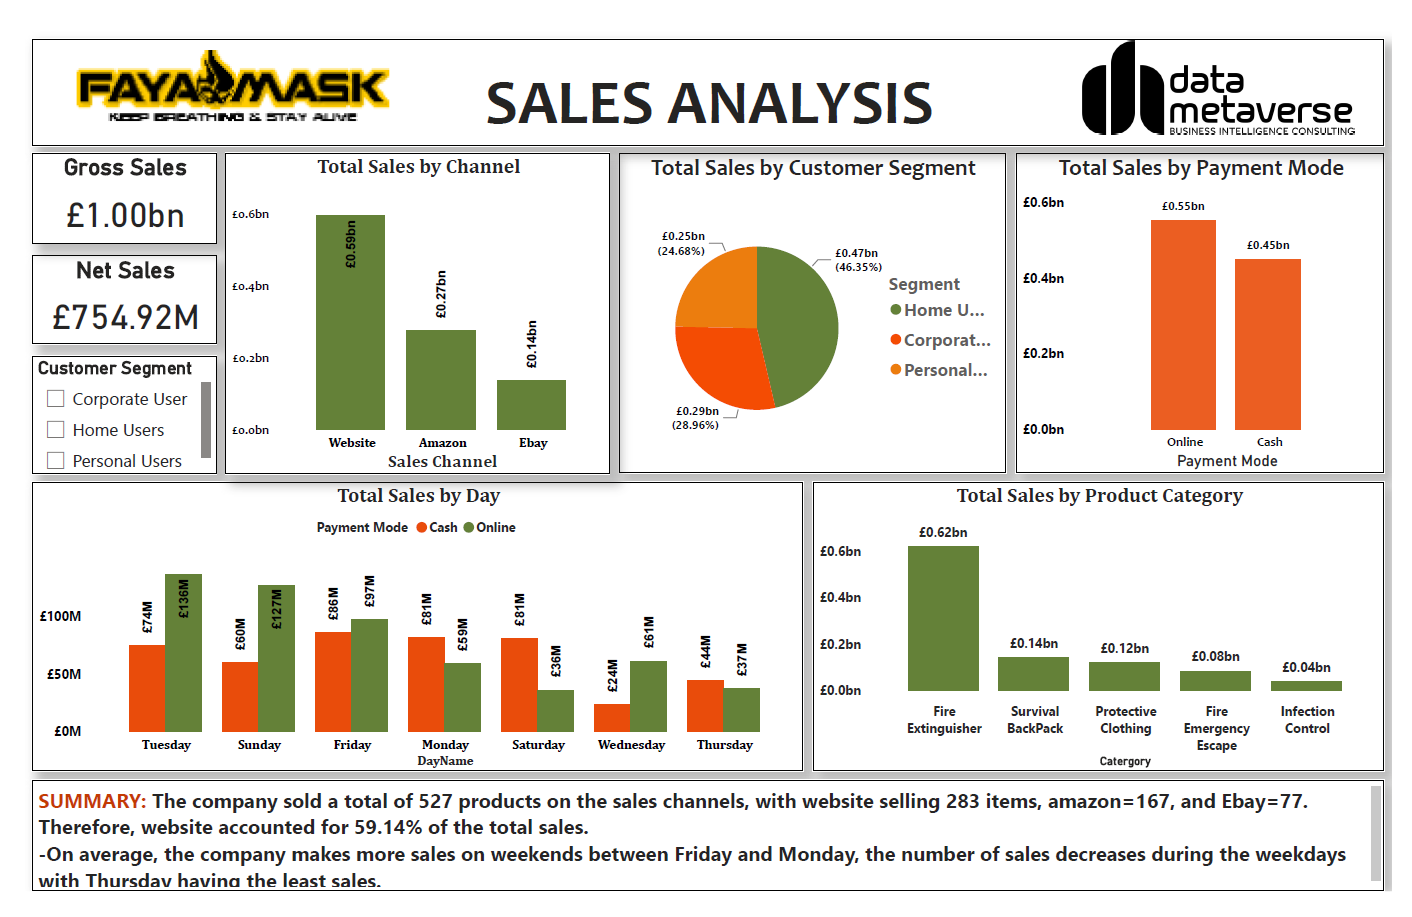

The page's visual inventory and layout, read from the dashboard file:
{"tool":"powerbi","page":{"name":"Sales Analysis","canvas":[1280,810],"ordinal":2},"visuals":[{"type":"pieChart","title":"Total Sales by Customer Segment","fields":{"Y":["Sum(Faya Mask data.Sales After Discount)"],"Category":["Faya Mask data.Segment"]},"box":[556.3,118.6,362.7,300],"z":0},{"type":"clusteredColumnChart","title":"Total Sales by Payment Mode","fields":{"Y":["Sum(Faya Mask data.Sales After Discount)"],"Category":["Faya Mask data.Payment Mode"]},"box":[927.8,118.6,345.3,300],"z":1000},{"type":"textbox","title":"SALES ANALYSIS","box":[7,12.2,1266.1,101.1],"z":2000},{"type":"card","title":"Net Sales","fields":{"Values":["Sum(Faya Mask data.NET Sales)"]},"box":[7,214.5,172.6,83.7],"z":3000},{"type":"card","title":"Gross Sales","fields":{"Values":["Faya Mask data.Revenue"]},"box":[7,118.6,172.6,85.5],"z":4000},{"type":"slicer","title":"Customer Segment","fields":{"Values":["Faya Mask data.Segment"]},"box":[7,308.7,172.6,111.6],"z":5000},{"type":"clusteredColumnChart","title":"Total Sales by Day","fields":{"Y":["Sum(Faya Mask data.Sales After Discount)"],"Category":["Faya Mask data.DayName"],"Series":["Faya Mask data.Payment Mode"]},"box":[7,427.3,722,270.3],"z":6000},{"type":"clusteredColumnChart","title":"Total Sales by Channel ","fields":{"Category":["Faya Mask data.Sales Channel"],"Y":["Sum(Faya Mask data.Sales After Discount)"]},"box":[188.3,118.6,359.2,301.7],"z":7000},{"type":"clusteredColumnChart","title":"Total Sales by Product Category","fields":{"Y":["Sum(Faya Mask data.Sales After Discount)"],"Category":["Faya Mask data.Catergory"]},"box":[737.7,427.3,535.4,270.3],"z":8000},{"type":"textbox","box":[7.2,706.3,1266,103.7],"z":9000},{"type":"image","box":[12.5,17.9,355.8,91.2],"z":10000},{"type":"image","box":[954.8,8.9,325.4,98.3],"z":11000}]}

Visuals, with their boxes in screenshot pixels (x1, y1, x2, y2), scaled from the page's 1280x810 canvas onto the 1412x917 screenshot:
"Total Sales by Customer Segment" pieChart: [x1=614, y1=134, x2=1014, y2=474]
"Total Sales by Payment Mode" clusteredColumnChart: [x1=1023, y1=134, x2=1404, y2=474]
"SALES ANALYSIS" textbox: [x1=8, y1=14, x2=1404, y2=128]
"Net Sales" card: [x1=8, y1=243, x2=198, y2=338]
"Gross Sales" card: [x1=8, y1=134, x2=198, y2=231]
"Customer Segment" slicer: [x1=8, y1=349, x2=198, y2=476]
"Total Sales by Day" clusteredColumnChart: [x1=8, y1=484, x2=804, y2=790]
"Total Sales by Channel " clusteredColumnChart: [x1=208, y1=134, x2=604, y2=476]
"Total Sales by Product Category" clusteredColumnChart: [x1=814, y1=484, x2=1404, y2=790]
textbox: [x1=8, y1=800, x2=1404, y2=916]
image: [x1=14, y1=20, x2=406, y2=124]
image: [x1=1053, y1=10, x2=1411, y2=121]
